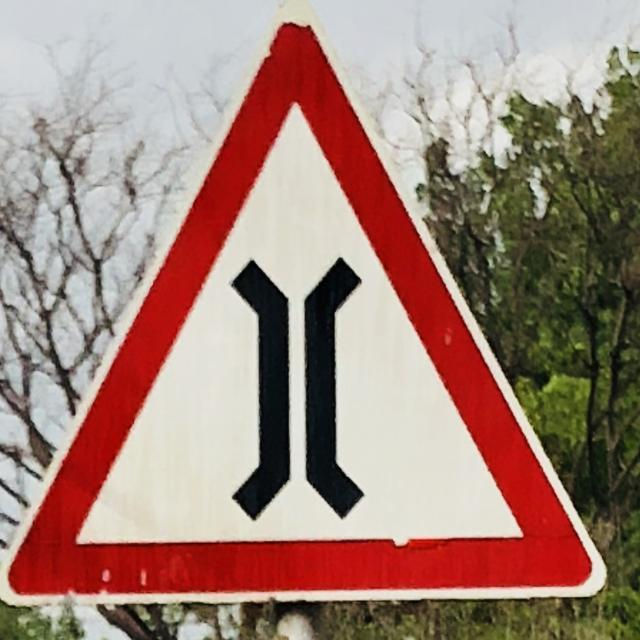narrow bridge ahead: (18, 28, 591, 595)
